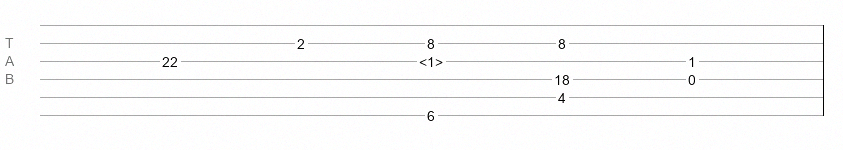0: (688, 72, 696, 82)
1: (688, 54, 696, 64)
18: (554, 72, 570, 82)
2: (297, 36, 305, 46)
22: (162, 54, 178, 64)
4: (558, 90, 566, 100)
6: (427, 108, 435, 118)
8: (427, 36, 435, 46), (558, 36, 566, 46)
harmonic: (419, 54, 443, 64)
